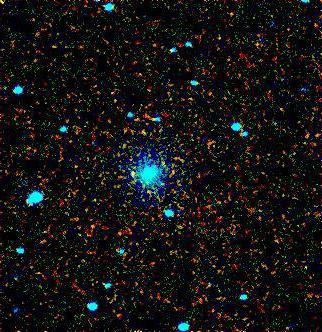star: (118, 159, 148, 189)
